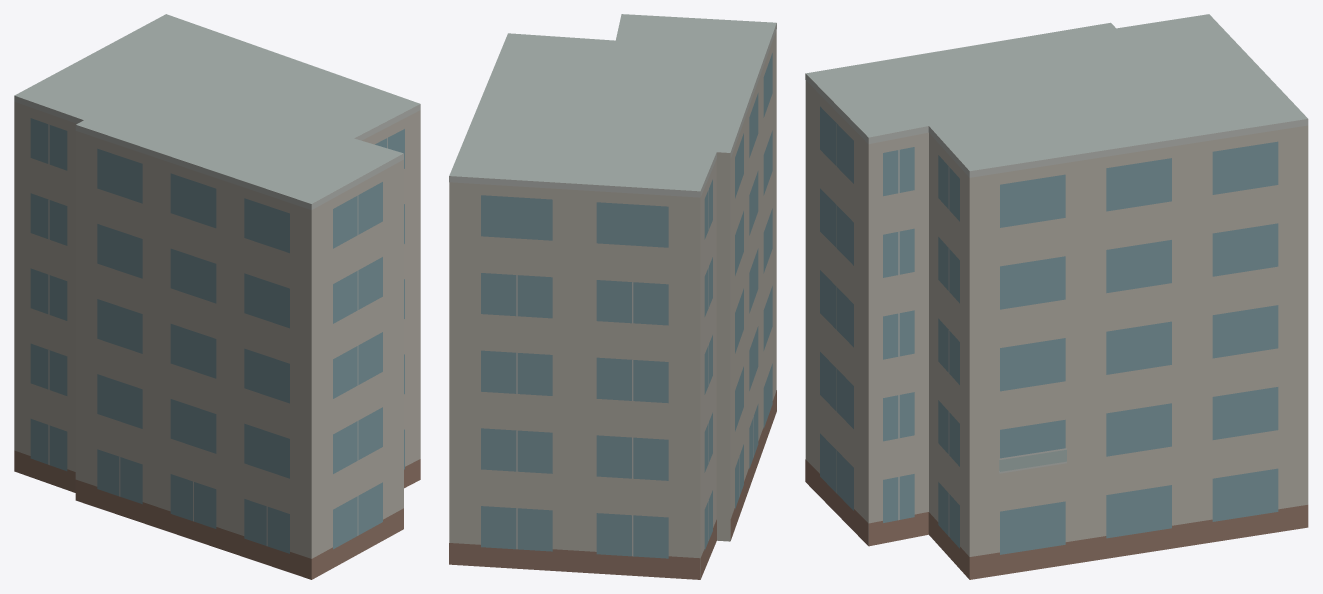
Rendered from survey-upis-32894090.glb.
3 views of the same model, side by side, from view 1: azimuth 30°, elevation 25°; view 2: azimuth 150°, elevation 25°; view 3: azimuth 270°, elevation 25° (orthographic). The views are drawn at different scales.
Visible parts, largest first — view 1: survey-upis-32894090.tmp; view 2: survey-upis-32894090.tmp; view 3: survey-upis-32894090.tmp.
Boxes of the visible parts, x1,y1,x2,y2 form: survey-upis-32894090.tmp: [14, 14, 420, 579]; survey-upis-32894090.tmp: [449, 14, 776, 579]; survey-upis-32894090.tmp: [805, 14, 1308, 579].
Bounding box in the file's own units: 12.47 × 15.1 × 16.85.
